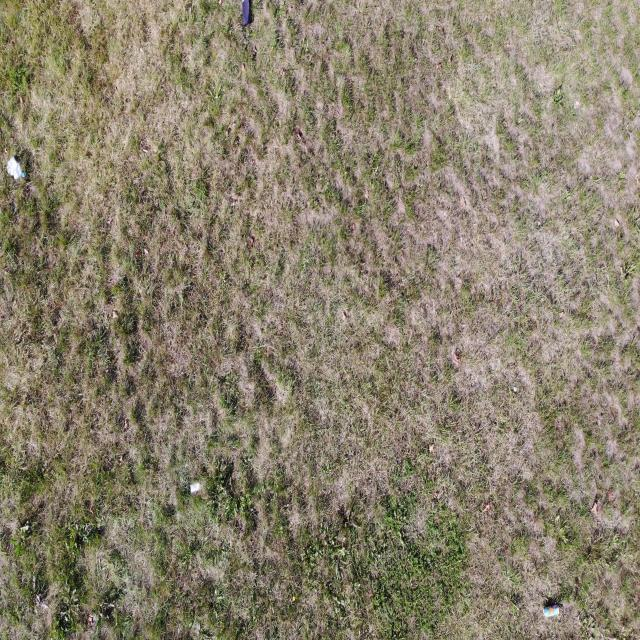rubbish: (6, 156, 25, 181), (242, 0, 250, 44), (542, 604, 561, 619), (189, 482, 201, 493)
